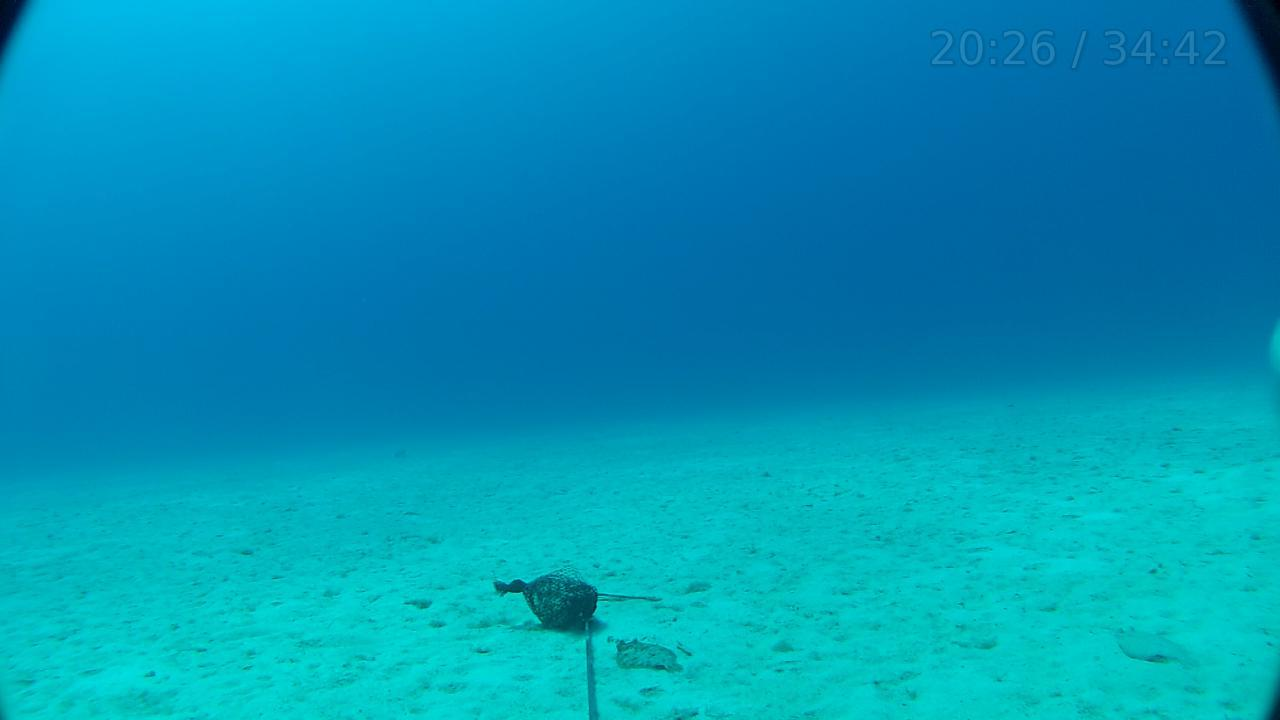bothus: (1103, 618, 1196, 670), (608, 632, 688, 680)
